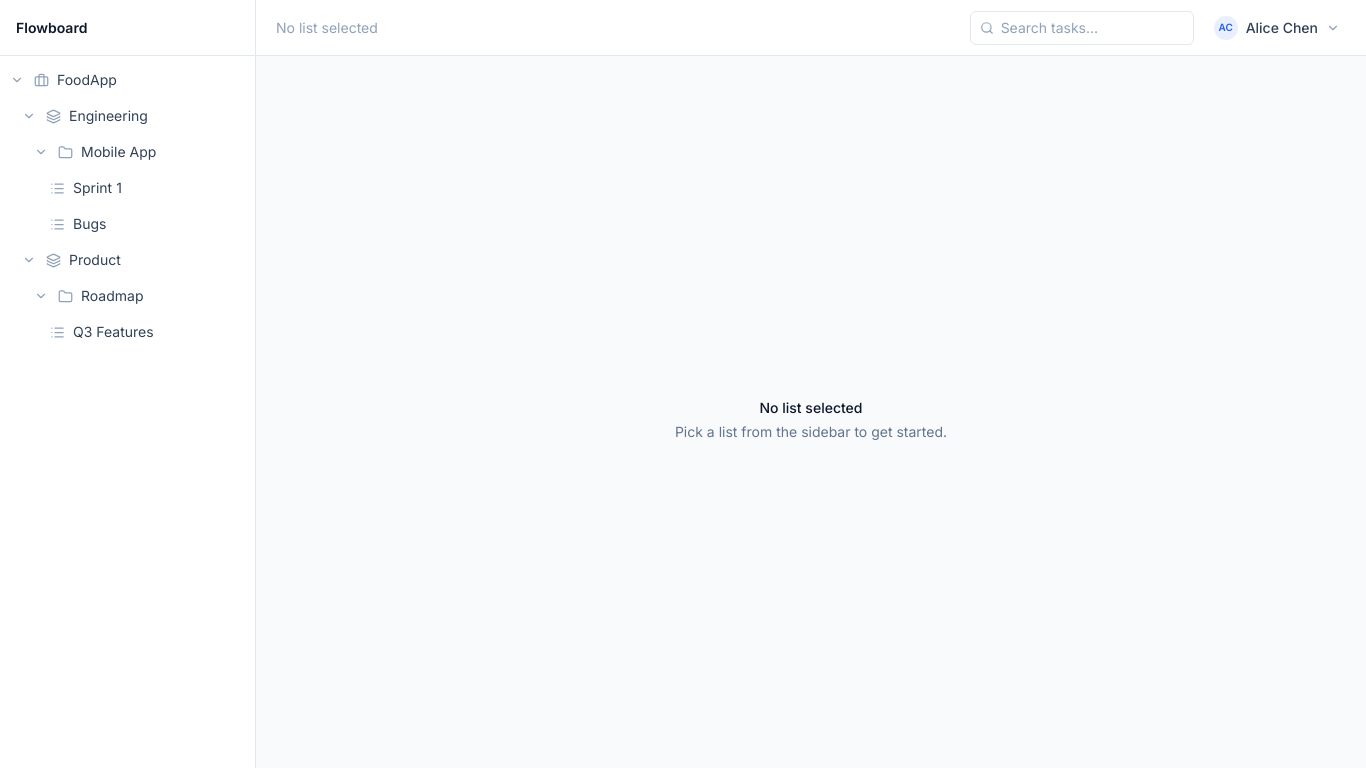
Test case: Searching tasks › can be cleared by hand
Type "checkout" into the dropdown labelled "Search tasks".
click(1082, 28); type("checkout")  # box [970,10,1194,44]
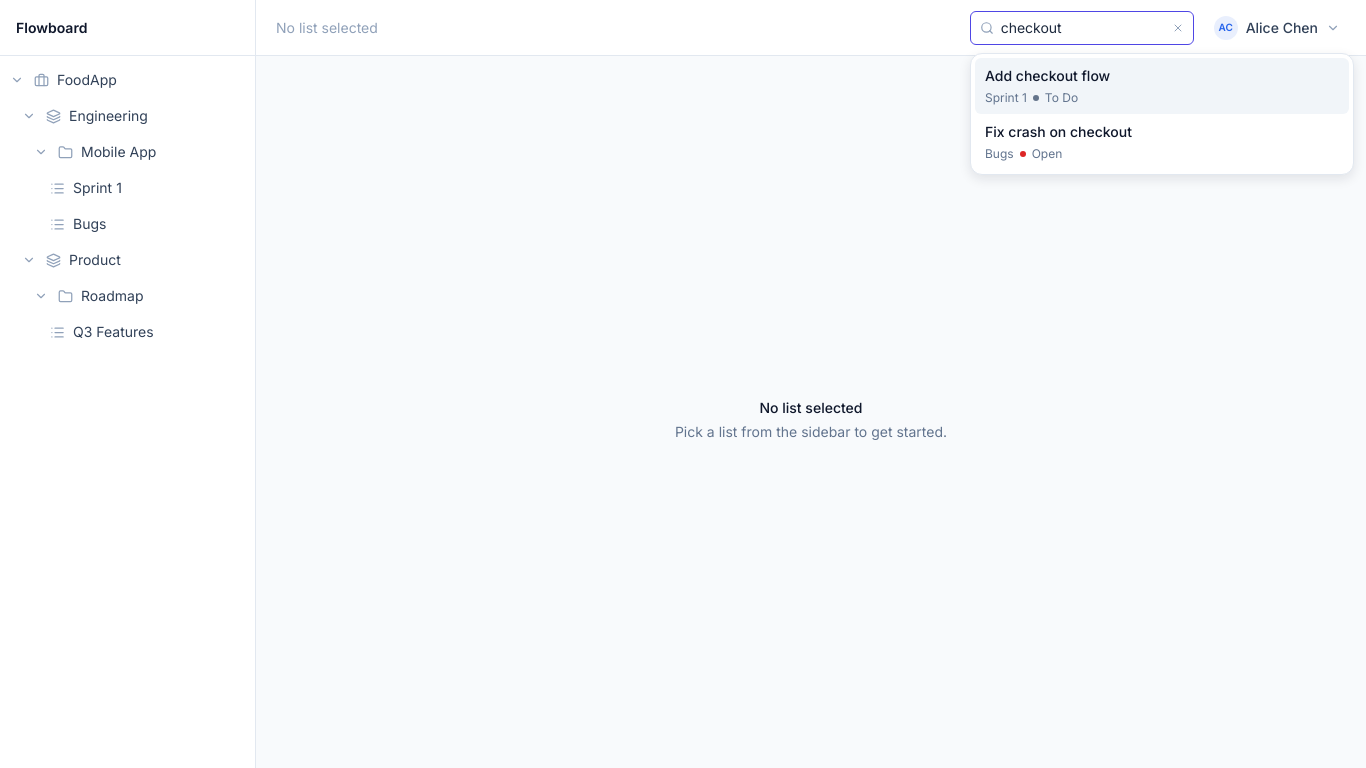
Expected: the list that starts with "Add checkout flow" is shown, [970,53,1354,175]
Click the button named "Clear search".
click(1178, 28)  # box [1168,18,1188,38]
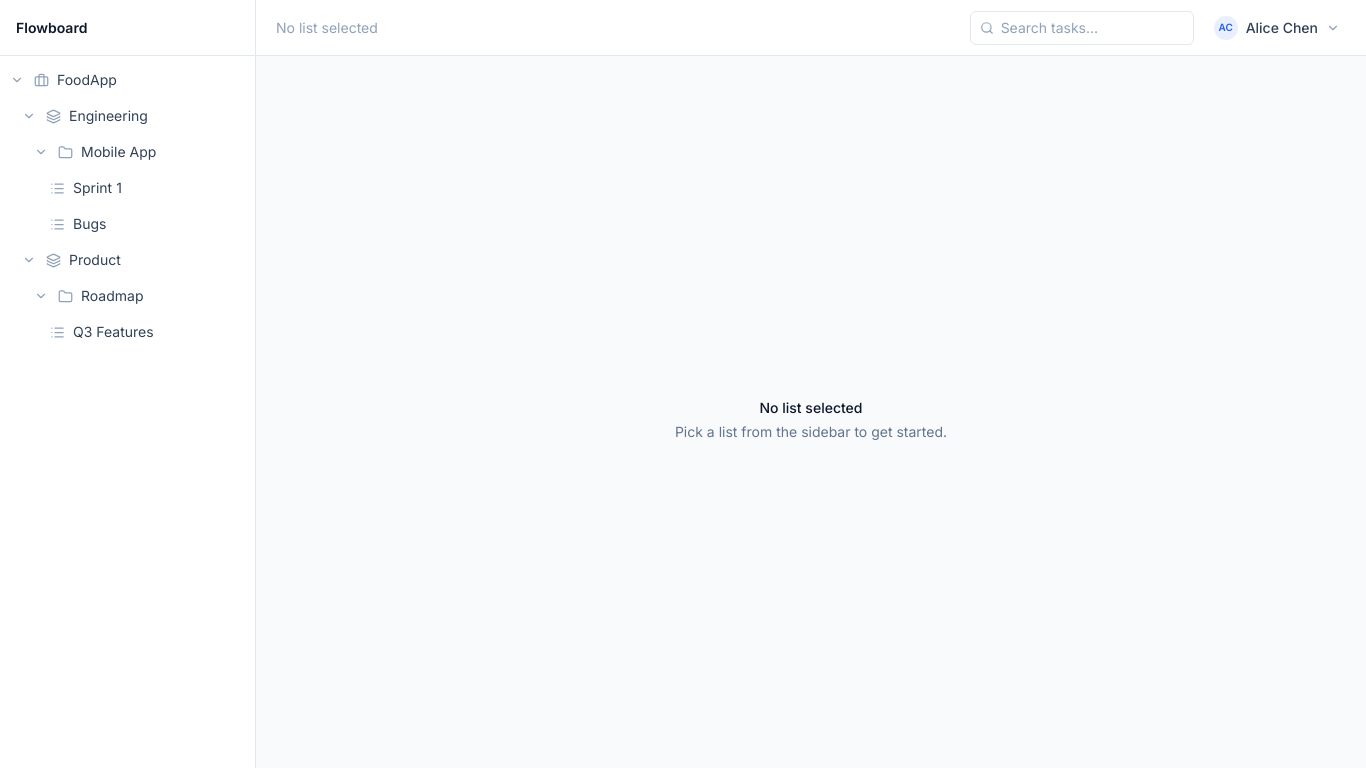
Expected: the dropdown labelled "Search tasks" is empty, [970,10,1194,44]
